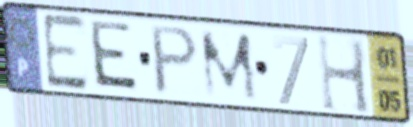7: (271, 32, 311, 107)
E: (39, 11, 91, 94), (89, 18, 143, 96)
H: (314, 31, 375, 118)
M: (197, 30, 261, 103)
P: (149, 22, 202, 97)
